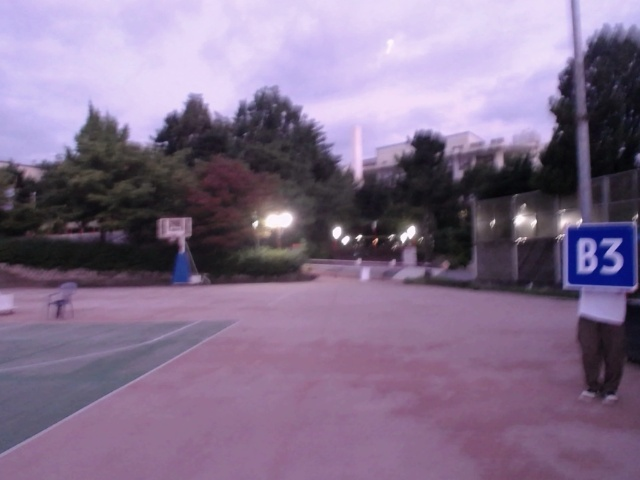delivery_b3: (565, 224, 638, 290)
